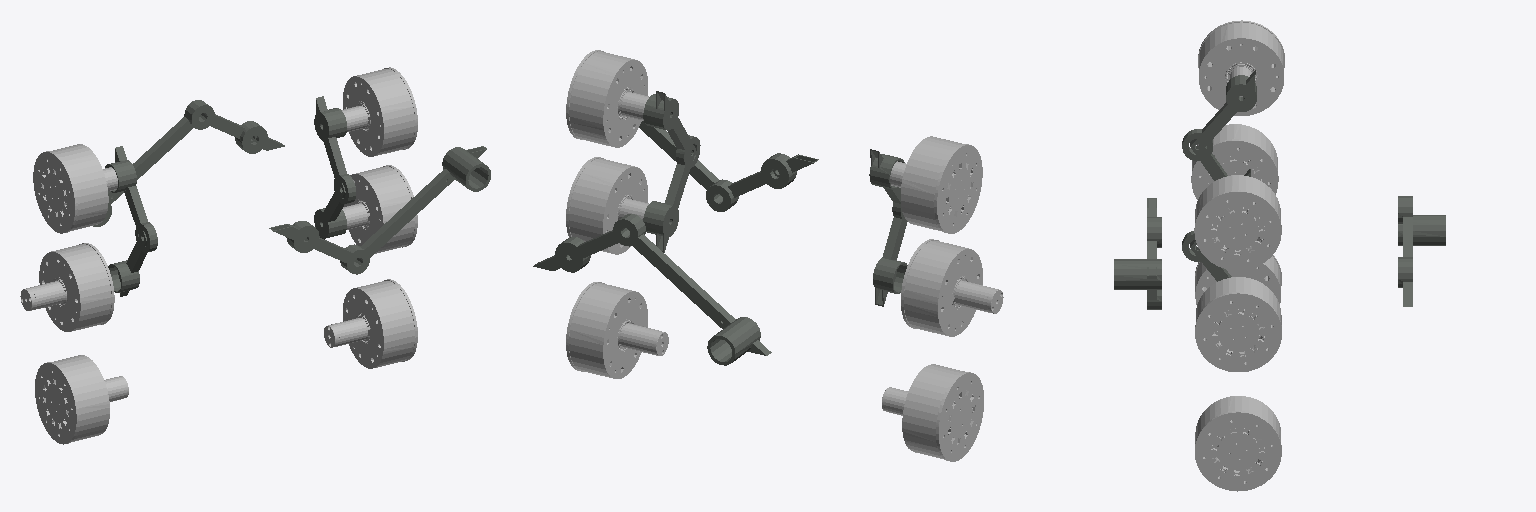
robot.urdf — auriga_v8:
<?xml version="1.0" encoding="utf-8"?>
<!-- This URDF was automatically created by SolidWorks to URDF Exporter! Originally created by [author] ([email redacted]) 
     Commit Version: 1.6.0-4-g7f85cfe  Build Version: 1.6.7995.38578
     For more information, please see http://wiki.ros.org/sw_urdf_exporter -->
<robot
  name="auriga_v8">
  <link
    name="base_link">
    <inertial>
      <origin
        xyz="-0.13058 -0.075146 -0.064102"
        rpy="0 0 0" />
      <mass
        value="7.2522" />
      <inertia
        ixx="0.049215"
        ixy="1.0185E-06"
        ixz="-5.3255E-05"
        iyy="0.077749"
        iyz="-0.003306"
        izz="0.054205" />
    </inertial>
    <visual>
      <origin
        xyz="0 0 0"
        rpy="0 0 0" />
      <geometry>
        <mesh
          filename="package://auriga_v8/meshes/base_link.STL" />
      </geometry>
      <material
        name="">
        <color
          rgba="0.2 0.2 0.2 1" />
      </material>
    </visual>
    <collision>
      <origin
        xyz="0 0 0"
        rpy="0 0 0" />
      <geometry>
        <mesh
          filename="package://auriga_v8/meshes/base_link.STL" />
      </geometry>
    </collision>
  </link>
  <link
    name="rocker_1_link">
    <inertial>
      <origin
        xyz="-0.00319427397416952 0.0774063348676216 0.0514223730363776"
        rpy="0 0 0" />
      <mass
        value="0.157115010617485" />
      <inertia
        ixx="0.0029864627992537"
        ixy="1.12349826817264E-05"
        ixz="3.1664433625397E-05"
        iyy="0.00259908313149434"
        iyz="-0.000678181482698449"
        izz="0.000411909267858246" />
    </inertial>
    <visual>
      <origin
        xyz="0 0 0"
        rpy="0 0 0" />
      <geometry>
        <mesh
          filename="package://auriga_v8/meshes/rocker_1_link.STL" />
      </geometry>
      <material
        name="">
        <color
          rgba="0.427450980392157 0.447058823529412 0.427450980392157 1" />
      </material>
    </visual>
    <collision>
      <origin
        xyz="0 0 0"
        rpy="0 0 0" />
      <geometry>
        <mesh
          filename="package://auriga_v8/meshes/rocker_1_link.STL" />
      </geometry>
    </collision>
  </link>
  <joint
    name="rocker_1_joint"
    type="fixed">
    <origin
      xyz="0.03499 -0.092655 -0.033"
      rpy="3.1416 0 3.1416" />
    <parent
      link="base_link" />
    <child
      link="rocker_1_link" />
    <axis
      xyz="0 0 0" />
  </joint>
  <link
    name="bogie_1_link">
    <inertial>
      <origin
        xyz="0.0023959 -0.061899 -0.00023965"
        rpy="0 0 0" />
      <mass
        value="0.109" />
      <inertia
        ixx="0.00075509"
        ixy="4.3842E-06"
        ixz="1.6974E-08"
        iyy="0.00066525"
        iyz="2.1776E-06"
        izz="0.00010281" />
    </inertial>
    <visual>
      <origin
        xyz="0 0 0"
        rpy="0 0 0" />
      <geometry>
        <mesh
          filename="package://auriga_v8/meshes/bogie_1_link.STL" />
      </geometry>
      <material
        name="">
        <color
          rgba="0.42745 0.44706 0.42745 1" />
      </material>
    </visual>
    <collision>
      <origin
        xyz="0 0 0"
        rpy="0 0 0" />
      <geometry>
        <mesh
          filename="package://auriga_v8/meshes/bogie_1_link.STL" />
      </geometry>
    </collision>
  </link>
  <joint
    name="bogie_1_joint"
    type="revolute">
    <origin
      xyz="-0.02051 0.053967 -0.099947"
      rpy="0 0 3.1416" />
    <parent
      link="rocker_1_link" />
    <child
      link="bogie_1_link" />
    <axis
      xyz="-1 0 0" />
    <limit
      lower="-0.785"
      upper="0.785"
      effort="10"
      velocity="5" />
  </joint>
  <link
    name="wheel_5_link">
    <inertial>
      <origin
        xyz="0.00416147173779097 -9.28831021262955E-08 1.94176211321812E-07"
        rpy="0 0 0" />
      <mass
        value="0.926156136524473" />
      <inertia
        ixx="0.00219829054546711"
        ixy="-1.07358910102717E-08"
        ixz="8.07356099787813E-09"
        iyy="0.00140016164031924"
        iyz="3.89529542945175E-08"
        izz="0.00140018200801187" />
    </inertial>
    <visual>
      <origin
        xyz="0 0 0"
        rpy="0 0 0" />
      <geometry>
        <mesh
          filename="package://auriga_v8/meshes/wheel_5_link.STL" />
      </geometry>
      <material
        name="">
        <color
          rgba="0.752941176470588 0.752941176470588 0.752941176470588 1" />
      </material>
    </visual>
    <collision>
      <origin
        xyz="0 0 0"
        rpy="0 0 0" />
      <geometry>
        <mesh
          filename="package://auriga_v8/meshes/wheel_5_link.STL" />
      </geometry>
    </collision>
  </link>
  <joint
    name="wheel_5_joint"
    type="continuous">
    <origin
      xyz="0.10265 -0.079036 0.089695"
      rpy="0 0 3.1416" />
    <parent
      link="bogie_1_link" />
    <child
      link="wheel_5_link" />
    <axis
      xyz="-1 0 0" />
  </joint>
  <link
    name="wheel_6_link">
    <inertial>
      <origin
        xyz="0.0041615 -0.00034885 -0.39025"
        rpy="0 0 0" />
      <mass
        value="0.92616" />
      <inertia
        ixx="0.0021983"
        ixy="9.9644E-09"
        ixz="-9.0085E-09"
        iyy="0.0014002"
        iyz="4.0148E-08"
        izz="0.0014002" />
    </inertial>
    <visual>
      <origin
        xyz="0 0 0"
        rpy="0 0 0" />
      <geometry>
        <mesh
          filename="package://auriga_v8/meshes/wheel_6_link.STL" />
      </geometry>
      <material
        name="">
        <color
          rgba="0.75294 0.75294 0.75294 1" />
      </material>
    </visual>
    <collision>
      <origin
        xyz="0 0 0"
        rpy="0 0 0" />
      <geometry>
        <mesh
          filename="package://auriga_v8/meshes/wheel_6_link.STL" />
      </geometry>
    </collision>
  </link>
  <joint
    name="wheel_6_joint"
    type="continuous">
    <origin
      xyz="0.10265 -0.078688 0.29995"
      rpy="0 0 3.1416" />
    <parent
      link="bogie_1_link" />
    <child
      link="wheel_6_link" />
    <axis
      xyz="-1 0 0" />
  </joint>
  <link
    name="wheel_4_link">
    <inertial>
      <origin
        xyz="0.00416147173779091 0.000348722601230034 0.39025104440836"
        rpy="0 0 0" />
      <mass
        value="0.926156136524472" />
      <inertia
        ixx="0.00219829054546711"
        ixy="-1.32650632923669E-08"
        ixz="-2.11656297334914E-09"
        iyy="0.00140013325413858"
        iyz="-1.15497356200624E-08"
        izz="0.00140021039419254" />
    </inertial>
    <visual>
      <origin
        xyz="0 0 0"
        rpy="0 0 0" />
      <geometry>
        <mesh
          filename="package://auriga_v8/meshes/wheel_4_link.STL" />
      </geometry>
      <material
        name="">
        <color
          rgba="0.752941176470588 0.752941176470588 0.752941176470588 1" />
      </material>
    </visual>
    <collision>
      <origin
        xyz="0 0 0"
        rpy="0 0 0" />
      <geometry>
        <mesh
          filename="package://auriga_v8/meshes/wheel_4_link.STL" />
      </geometry>
    </collision>
  </link>
  <joint
    name="wheel_4_joint"
    type="continuous">
    <origin
      xyz="-0.12316 0.13231 -0.19025"
      rpy="0 0 0" />
    <parent
      link="rocker_1_link" />
    <child
      link="wheel_4_link" />
    <axis
      xyz="-1 0 0" />
  </joint>
  <link
    name="rocker_2_link">
    <inertial>
      <origin
        xyz="-0.30934 -0.015249 -0.084422"
        rpy="0 0 0" />
      <mass
        value="0.15712" />
      <inertia
        ixx="0.0029865"
        ixy="1.1235E-05"
        ixz="-3.1664E-05"
        iyy="0.0025991"
        iyz="0.00067818"
        izz="0.00041191" />
    </inertial>
    <visual>
      <origin
        xyz="0 0 0"
        rpy="0 0 0" />
      <geometry>
        <mesh
          filename="package://auriga_v8/meshes/rocker_2_link.STL" />
      </geometry>
      <material
        name="">
        <color
          rgba="0.42745 0.44706 0.42745 1" />
      </material>
    </visual>
    <collision>
      <origin
        xyz="0 0 0"
        rpy="0 0 0" />
      <geometry>
        <mesh
          filename="package://auriga_v8/meshes/rocker_2_link.STL" />
      </geometry>
    </collision>
  </link>
  <joint
    name="rocker_2_joint"
    type="fixed">
    <origin
      xyz="0 0 0"
      rpy="0 0 0" />
    <parent
      link="base_link" />
    <child
      link="rocker_2_link" />
    <axis
      xyz="0 0 0" />
  </joint>
  <link
    name="bogie_2_link">
    <inertial>
      <origin
        xyz="0.00239591308301151 0.0617953988436242 0.00358741675136703"
        rpy="0 0 0" />
      <mass
        value="0.108995977851336" />
      <inertia
        ixx="0.0007550940265459"
        ixy="-4.37688335423889E-06"
        ixz="-2.54091808736551E-07"
        iyy="0.000663370668469634"
        iyz="3.25430149906427E-05"
        izz="0.000104686998401709" />
    </inertial>
    <visual>
      <origin
        xyz="0 0 0"
        rpy="0 0 0" />
      <geometry>
        <mesh
          filename="package://auriga_v8/meshes/bogie_2_link.STL" />
      </geometry>
      <material
        name="">
        <color
          rgba="0.427450980392157 0.447058823529412 0.427450980392157 1" />
      </material>
    </visual>
    <collision>
      <origin
        xyz="0 0 0"
        rpy="0 0 0" />
      <geometry>
        <mesh
          filename="package://auriga_v8/meshes/bogie_2_link.STL" />
      </geometry>
    </collision>
  </link>
  <joint
    name="bogie_2_joint"
    type="revolute">
    <origin
      xyz="-0.32665 -0.038665 0.067793"
      rpy="3.1416 0 3.1416" />
    <parent
      link="rocker_2_link" />
    <child
      link="bogie_2_link" />
    <axis
      xyz="-1 0 0" />
    <limit
      lower="-0.785"
      upper="0.785"
      effort="10"
      velocity="5" />
  </joint>
  <link
    name="wheel_2_link">
    <inertial>
      <origin
        xyz="-2.1518E-07 -5.3832E-09 -0.0041615"
        rpy="0 0 0" />
      <mass
        value="0.92616" />
      <inertia
        ixx="0.0014001"
        ixy="3.1138E-08"
        ixz="1.2067E-08"
        iyy="0.0014002"
        iyz="-5.9011E-09"
        izz="0.0021983" />
    </inertial>
    <visual>
      <origin
        xyz="0 0 0"
        rpy="0 0 0" />
      <geometry>
        <mesh
          filename="package://auriga_v8/meshes/wheel_2_link.STL" />
      </geometry>
      <material
        name="">
        <color
          rgba="0.75294 0.75294 0.75294 1" />
      </material>
    </visual>
    <collision>
      <origin
        xyz="0 0 0"
        rpy="0 0 0" />
      <geometry>
        <mesh
          filename="package://auriga_v8/meshes/wheel_2_link.STL" />
      </geometry>
    </collision>
  </link>
  <joint
    name="wheel_2_joint"
    type="continuous">
    <origin
      xyz="0.10265 0.07334 0.094409"
      rpy="0 -1.5708 0" />
    <parent
      link="bogie_2_link" />
    <child
      link="wheel_2_link" />
    <axis
      xyz="0 0 1" />
  </joint>
  <link
    name="wheel_1_link">
    <inertial>
      <origin
        xyz="-0.0041615 -2.0875E-07 5.2503E-08"
        rpy="0 0 0" />
      <mass
        value="0.92616" />
      <inertia
        ixx="0.0021983"
        ixy="1.0043E-08"
        ixz="-8.9202E-09"
        iyy="0.0014002"
        iyz="3.9846E-08"
        izz="0.0014002" />
    </inertial>
    <visual>
      <origin
        xyz="0 0 0"
        rpy="0 0 0" />
      <geometry>
        <mesh
          filename="package://auriga_v8/meshes/wheel_1_link.STL" />
      </geometry>
      <material
        name="">
        <color
          rgba="0.75294 0.75294 0.75294 1" />
      </material>
    </visual>
    <collision>
      <origin
        xyz="0 0 0"
        rpy="0 0 0" />
      <geometry>
        <mesh
          filename="package://auriga_v8/meshes/wheel_1_link.STL" />
      </geometry>
    </collision>
  </link>
  <joint
    name="wheel_1_joint"
    type="continuous">
    <origin
      xyz="0.10265 0.0837717629834123 -0.0852883163107575"
      rpy="0 0 0" />
    <parent
      link="bogie_2_link" />
    <child
      link="wheel_1_link" />
    <axis
      xyz="1 0 0" />
  </joint>
  <link
    name="wheel_3_link">
    <inertial>
      <origin
        xyz="-0.00416147173779097 -6.99332501352679E-08 2.03570656609475E-07"
        rpy="0 0 0" />
      <mass
        value="0.926156136524472" />
      <inertia
        ixx="0.0021982905454671"
        ixy="-1.99317804403964E-09"
        ixz="-1.32841629112928E-08"
        iyy="0.00140021060221958"
        iyz="-1.08307848249764E-08"
        izz="0.00140013304611153" />
    </inertial>
    <visual>
      <origin
        xyz="0 0 0"
        rpy="0 0 0" />
      <geometry>
        <mesh
          filename="package://auriga_v8/meshes/wheel_3_link.STL" />
      </geometry>
      <material
        name="">
        <color
          rgba="0.752941176470588 0.752941176470588 0.752941176470588 1" />
      </material>
    </visual>
    <collision>
      <origin
        xyz="0 0 0"
        rpy="0 0 0" />
      <geometry>
        <mesh
          filename="package://auriga_v8/meshes/wheel_3_link.STL" />
      </geometry>
    </collision>
  </link>
  <joint
    name="wheel_3_joint"
    type="continuous">
    <origin
      xyz="-0.4293 0.04 -0.233"
      rpy="3.1416 0 3.1416" />
    <parent
      link="rocker_2_link" />
    <child
      link="wheel_3_link" />
    <axis
      xyz="1 0 0" />
  </joint>
  <link
    name="lidar_link">
    <inertial>
      <origin
        xyz="0.0225246315179786 0.0252244678162723 0.00689883757739537"
        rpy="0 0 0" />
      <mass
        value="0.0941041855286772" />
      <inertia
        ixx="4.43514677561826E-05"
        ixy="2.9036632805171E-08"
        ixz="-1.51745387499321E-07"
        iyy="6.94753945949236E-05"
        iyz="3.35003193615963E-07"
        izz="2.79104313007998E-05" />
    </inertial>
    <visual>
      <origin
        xyz="0 0 0"
        rpy="0 0 0" />
      <geometry>
        <mesh
          filename="package://auriga_v8/meshes/lidar_link.STL" />
      </geometry>
      <material
        name="">
        <color
          rgba="0.752941176470588 0.752941176470588 0.752941176470588 1" />
      </material>
    </visual>
    <collision>
      <origin
        xyz="0 0 0"
        rpy="0 0 0" />
      <geometry>
        <mesh
          filename="package://auriga_v8/meshes/lidar_link.STL" />
      </geometry>
    </collision>
  </link>
  <joint
    name="lidar_joint"
    type="fixed">
    <origin
      xyz="-0.11141 -0.23235 0.072107"
      rpy="3.1416 0 3.1416" />
    <parent
      link="base_link" />
    <child
      link="lidar_link" />
    <axis
      xyz="0 0 0" />
  </joint>
  <link
    name="camera_link">
    <inertial>
      <origin
        xyz="0 0 0"
        rpy="0 0 0" />
      <mass
        value="0" />
      <inertia
        ixx="0"
        ixy="0"
        ixz="0"
        iyy="0"
        iyz="0"
        izz="0" />
    </inertial>
    <visual>
      <origin
        xyz="0 0 0"
        rpy="0 0 0" />
      <geometry>
        <mesh
          filename="package://auriga_v8/meshes/camera_link.STL" />
      </geometry>
      <material
        name="">
        <color
          rgba="1 1 1 1" />
      </material>
    </visual>
    <collision>
      <origin
        xyz="0 0 0"
        rpy="0 0 0" />
      <geometry>
        <mesh
          filename="package://auriga_v8/meshes/camera_link.STL" />
      </geometry>
    </collision>
  </link>
  <joint
    name="camera_joint"
    type="fixed">
    <origin
      xyz="-0.113225697052003 -0.0537931754289137 0.146634965177554"
      rpy="3.14159265358979 0 3.14159265358979" />
    <parent
      link="base_link" />
    <child
      link="camera_link" />
    <axis
      xyz="0 0 0" />
  </joint>
</robot>

--- Facts derived from the render (not from the file) ---
Views: 3 orthographic renders of the robot side by side, from view 1: azimuth 30°, elevation 25°; view 2: azimuth 150°, elevation 25°; view 3: azimuth 270°, elevation 25°.
Robot: auriga_v8 — 13 links, 12 joints (2 revolute, 6 continuous, 4 fixed); root link base_link; default pose: every joint at zero.
Visible links, largest first — view 1: wheel_2_link, wheel_3_link, wheel_4_link, wheel_1_link, wheel_6_link, rocker_1_link, wheel_5_link, rocker_2_link, bogie_1_link, bogie_2_link; view 2: wheel_3_link, wheel_2_link, wheel_4_link, wheel_1_link, wheel_6_link, rocker_2_link, wheel_5_link, bogie_1_link, rocker_1_link, bogie_2_link; view 3: wheel_6_link, wheel_4_link, wheel_5_link, wheel_1_link, wheel_2_link, bogie_2_link, rocker_1_link, rocker_2_link, wheel_3_link, bogie_1_link.
Boxes of the visible links, left/top/right/bottom form: wheel_2_link: left=20, top=243, right=114, bottom=331; wheel_3_link: left=35, top=355, right=128, bottom=444; wheel_4_link: left=324, top=279, right=417, bottom=368; wheel_1_link: left=33, top=144, right=117, bottom=233; wheel_6_link: left=342, top=67, right=417, bottom=156; rocker_1_link: left=269, top=146, right=490, bottom=274; wheel_5_link: left=342, top=165, right=417, bottom=253; rocker_2_link: left=93, top=100, right=284, bottom=226; bogie_1_link: left=314, top=96, right=355, bottom=239; bogie_2_link: left=105, top=146, right=157, bottom=296; wheel_3_link: left=882, top=364, right=983, bottom=461; wheel_2_link: left=901, top=239, right=1003, bottom=336; wheel_4_link: left=566, top=282, right=668, bottom=378; wheel_1_link: left=890, top=136, right=982, bottom=233; wheel_6_link: left=566, top=50, right=648, bottom=147; rocker_2_link: left=533, top=214, right=771, bottom=365; wheel_5_link: left=566, top=157, right=648, bottom=254; bogie_1_link: left=643, top=91, right=700, bottom=252; rocker_1_link: left=639, top=121, right=818, bottom=211; bogie_2_link: left=869, top=149, right=907, bottom=306; wheel_6_link: left=1194, top=175, right=1281, bottom=270; wheel_4_link: left=1195, top=396, right=1281, bottom=491; wheel_5_link: left=1195, top=277, right=1281, bottom=371; wheel_1_link: left=1198, top=20, right=1284, bottom=115; wheel_2_link: left=1191, top=124, right=1278, bottom=199; bogie_2_link: left=1182, top=70, right=1256, bottom=180; rocker_1_link: left=1114, top=198, right=1161, bottom=309; rocker_2_link: left=1398, top=196, right=1445, bottom=306; wheel_3_link: left=1195, top=255, right=1281, bottom=304; bogie_1_link: left=1182, top=169, right=1250, bottom=281.
Bounding box of the posed robot: 0.8086 × 0.5328 × 0.5302 m (x, y, z).
Meshes: 13 distinct files referenced, 10 mesh visuals loaded (10 binary STL); not drawn: 3 (reference not matched to a file when rendering).